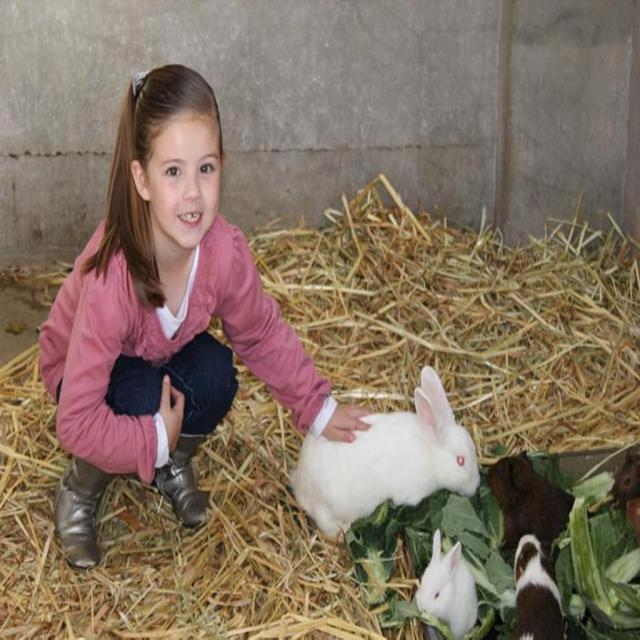nomask: (152, 112, 222, 249)
